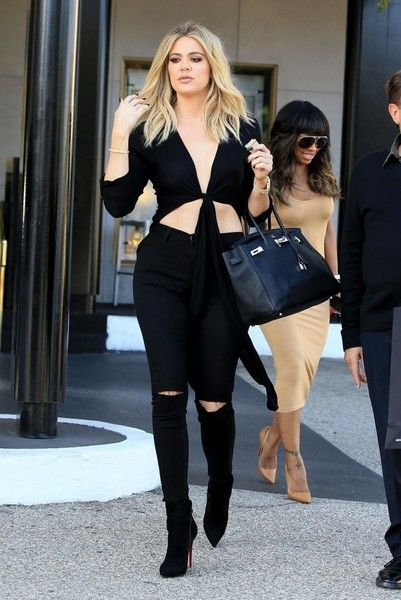Person: (104, 11, 272, 570), (280, 76, 335, 511)
